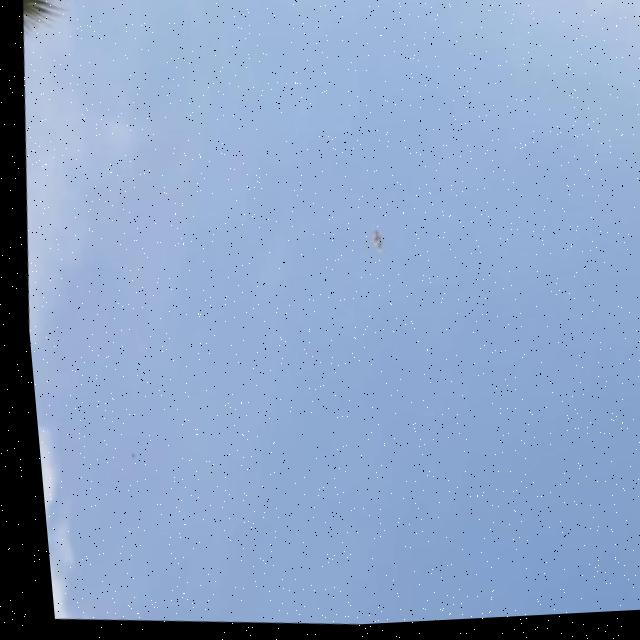drones: (339, 209, 409, 276)
